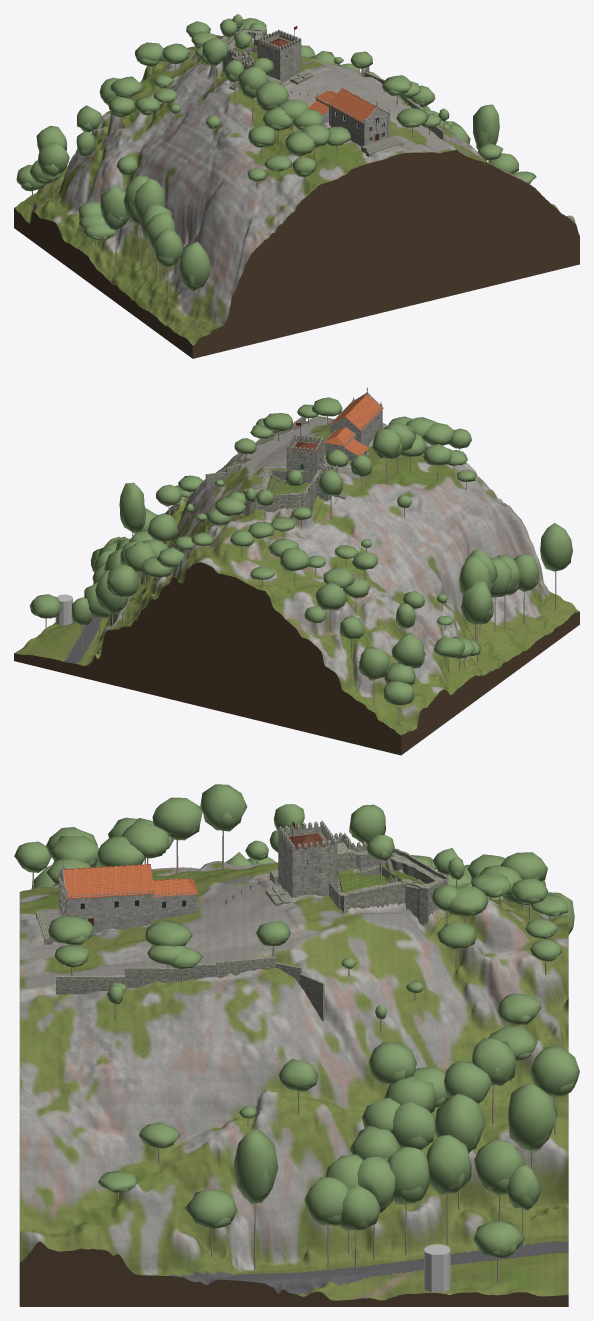
File: lanhoso.glb
3 renders of one model, top to bottom at view 1: azimuth 30°, elevation 25°; view 2: azimuth 150°, elevation 25°; view 3: azimuth 270°, elevation 25°, orthographic. The views are drawn at different scales.
Parts seen in each view (by area): view 1: base, Terreno, arvores, santuario, torre_menagem, cerca; view 2: Terreno, arvores, base, santuario, cerca, torre_menagem, muro_terreiro; view 3: Terreno, arvores, base, santuario, cerca, muro_terreiro, torre_menagem, envolvente, terracos.
Boxes of the visible parts, x1,y1,x2,y2 form: base: (14, 150, 579, 358); Terreno: (14, 33, 575, 345); arvores: (16, 14, 536, 328); santuario: (308, 88, 390, 146); torre_menagem: (257, 29, 301, 81); cerca: (222, 26, 263, 71); Terreno: (14, 416, 579, 735); arvores: (29, 397, 572, 723); base: (14, 562, 579, 755); santuario: (324, 387, 383, 460); cerca: (243, 463, 337, 513); torre_menagem: (286, 434, 323, 482); muro_terreiro: (205, 416, 305, 492); Terreno: (19, 861, 568, 1300); arvores: (14, 784, 579, 1283); base: (19, 1241, 568, 1306); santuario: (57, 859, 198, 933); cerca: (329, 832, 447, 925); muro_terreiro: (56, 956, 324, 1021); torre_menagem: (278, 820, 337, 897); envolvente: (424, 1244, 450, 1292); terracos: (265, 858, 422, 906).
Size of the model in its own units: 153 by 81.61 by 124.
Materials: 25 (10 with a texture image).
